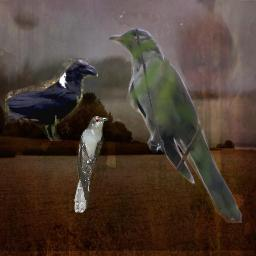Crow: (5, 58, 98, 141)
Cuckoo: (109, 28, 247, 224), (73, 115, 109, 213)
